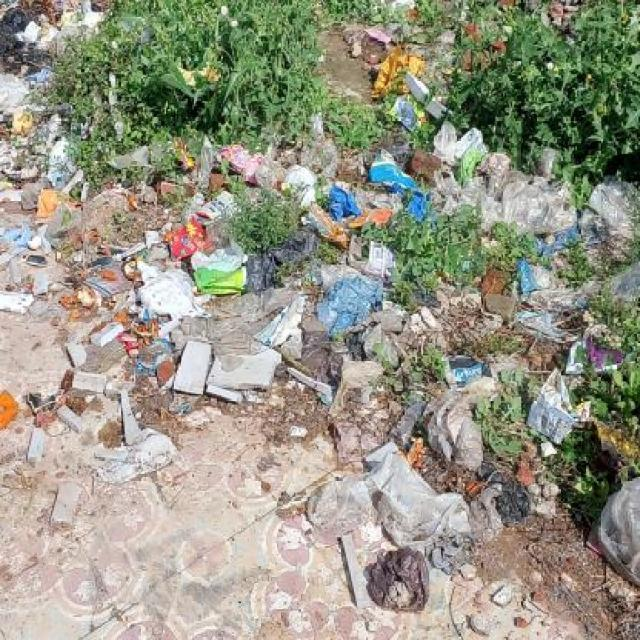garbage: (102, 149, 640, 640), (2, 51, 90, 562), (347, 17, 456, 156), (3, 5, 99, 49)
